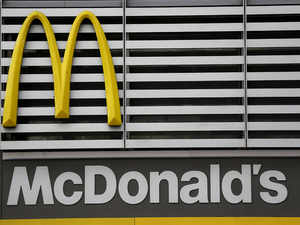mcdonalds: (4, 10, 121, 123)
